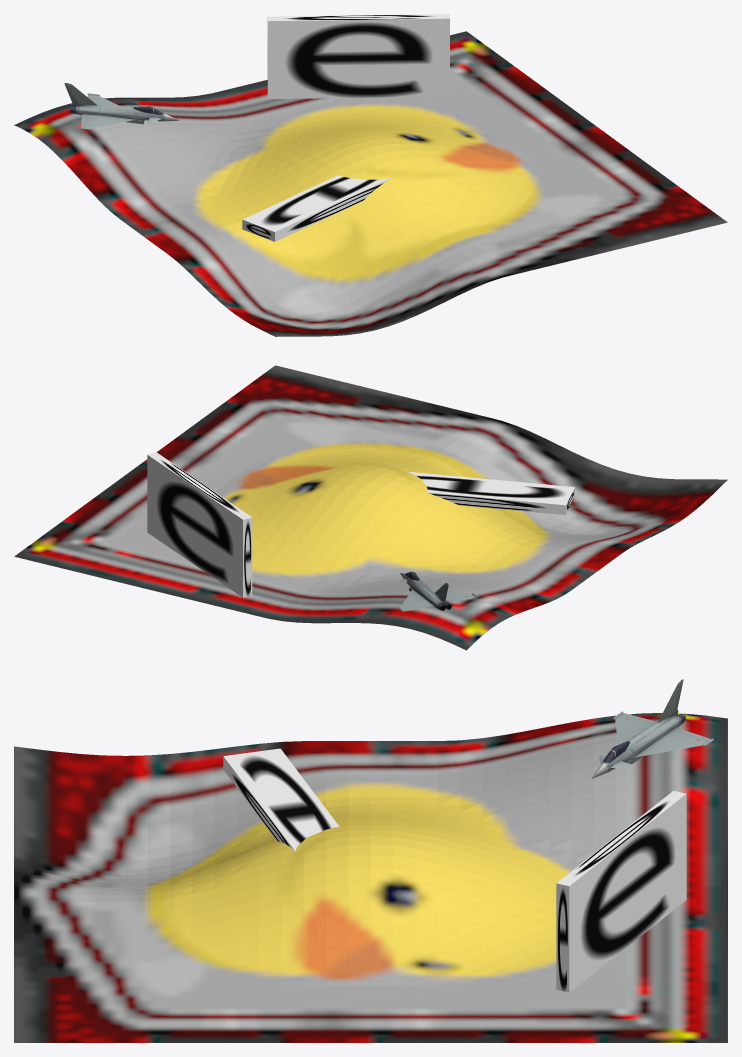
Rendered from terrain.fbx.
3 renders of one model, top to bottom at view 1: azimuth 30°, elevation 25°; view 2: azimuth 150°, elevation 25°; view 3: azimuth 270°, elevation 25°, orthographic. The views are drawn at different scales.
Parts seen in each view (by area): view 1: Plane, Cube.001, Cube.002, EF-2000; view 2: Plane, Cube.001, Cube.002, EF-2000; view 3: Plane, Cube.001, Cube.002, EF-2000.
Part boxes in pixels (x1=…): Plane: x1=14, y1=31, x2=727, y2=336; Cube.001: x1=267, y1=14, x2=449, y2=98; Cube.002: x1=242, y1=175, x2=390, y2=241; EF-2000: x1=64, y1=83, x2=179, y2=130; Plane: x1=14, y1=365, x2=727, y2=650; Cube.001: x1=147, y1=452, x2=252, y2=597; Cube.002: x1=407, y1=471, x2=574, y2=514; EF-2000: x1=398, y1=571, x2=477, y2=612; Plane: x1=14, y1=713, x2=727, y2=1042; Cube.001: x1=556, y1=790, x2=686, y2=992; Cube.002: x1=223, y1=748, x2=339, y2=851; EF-2000: x1=592, y1=679, x2=713, y2=778.
Bounding box in the file's own units: 48 × 48 × 11.92.
3 materials, 3 textured.
